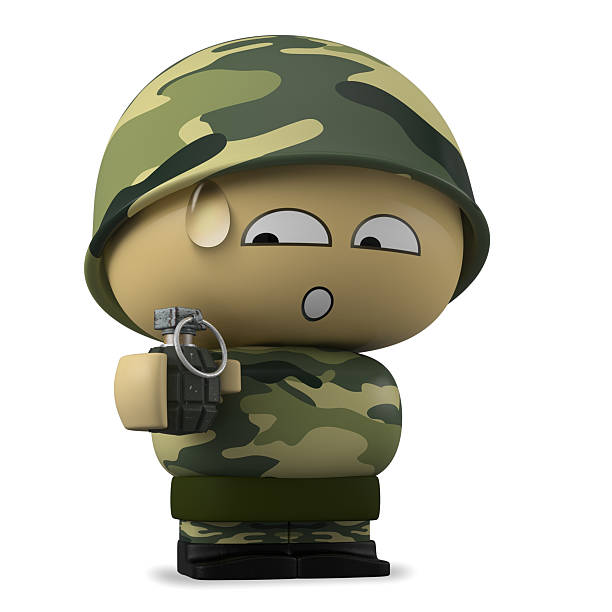e1: (152, 304, 225, 424)
